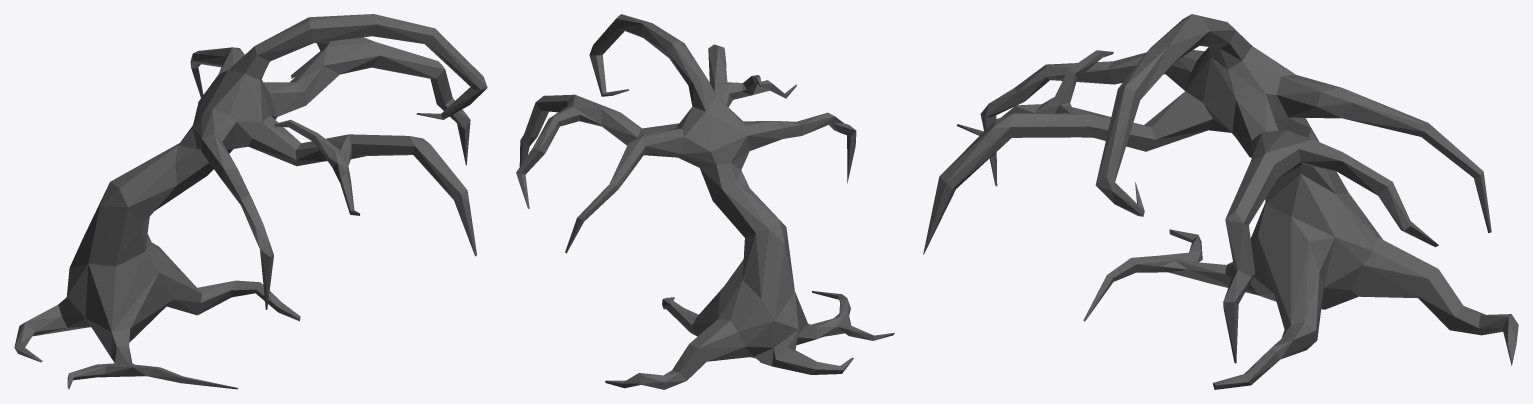
File: HWN20_Tree_07.gltf
3 renders of one model, left to right at view 1: azimuth 30°, elevation 25°; view 2: azimuth 150°, elevation 25°; view 3: azimuth 270°, elevation 25°, orthographic. The views are drawn at different scales.
Visible parts, largest first — view 1: HWN20_Tree_07_glb; view 2: HWN20_Tree_07_glb; view 3: HWN20_Tree_07_glb.
Part boxes in pixels (x1=…): HWN20_Tree_07_glb: x1=14, y1=14, x2=487, y2=389; HWN20_Tree_07_glb: x1=516, y1=14, x2=894, y2=389; HWN20_Tree_07_glb: x1=923, y1=14, x2=1518, y2=389.
Size of what is drawn, in the model's own units: 8.11 by 5.64 by 8.02.
1 material, 1 textured.
